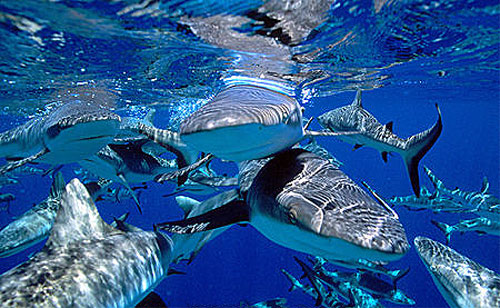Carcharhinus_amblyrhynchos: (6, 76, 496, 308)
